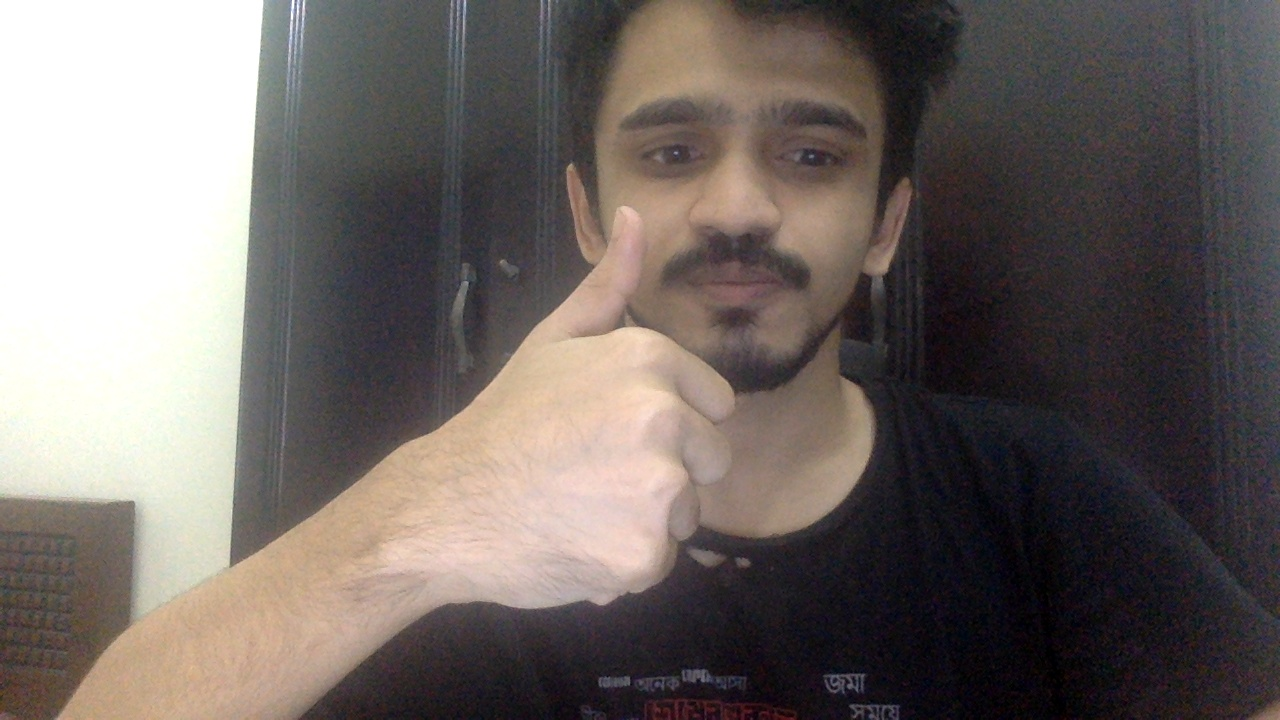good: (407, 202, 735, 615)
